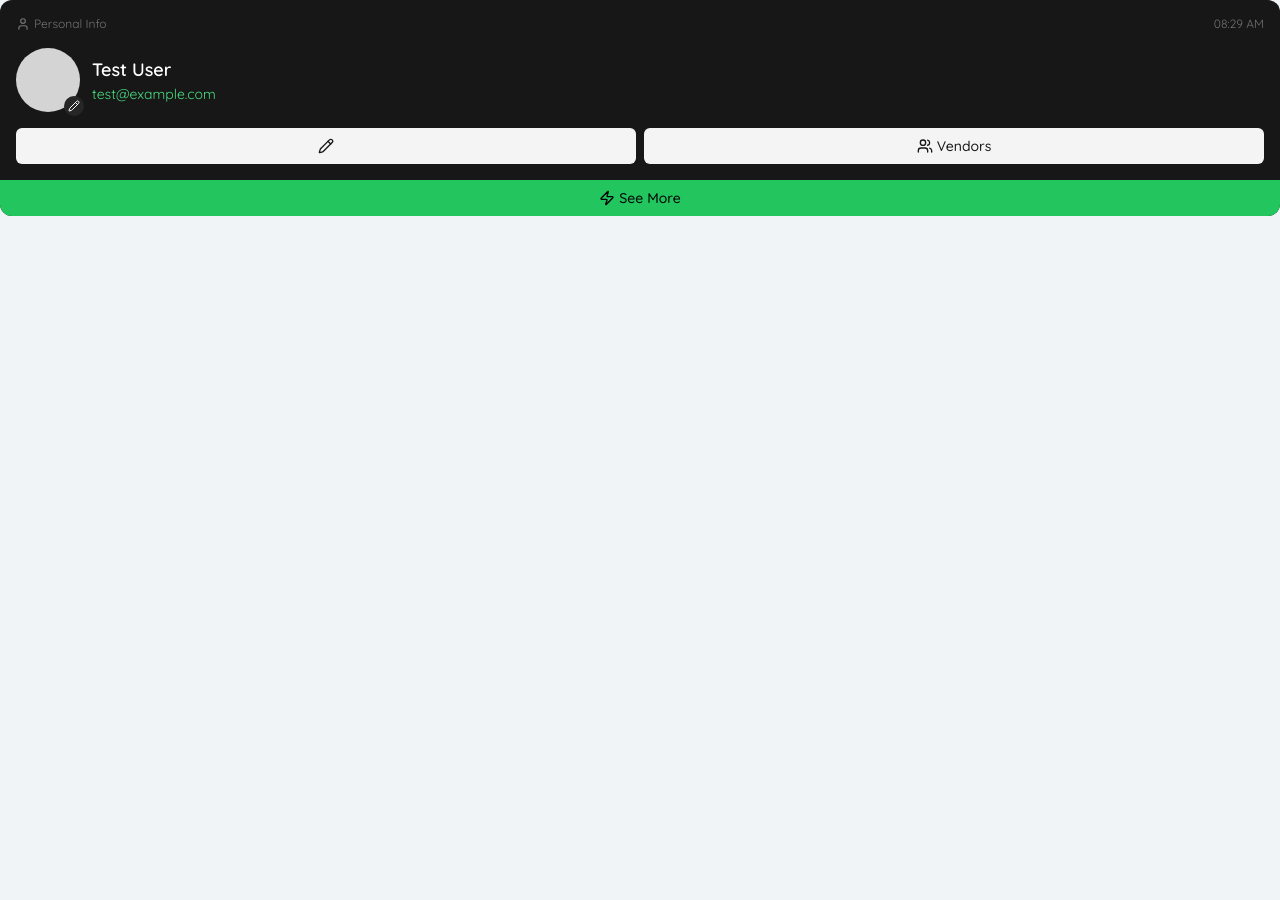
Scenario: PersonalInfoSection › opens vendor manager when Vendors clicked
The width and height of the screenshot is (1280, 900).
Click the button "Vendors".
click(954, 146)  # box [644,128,1264,164]
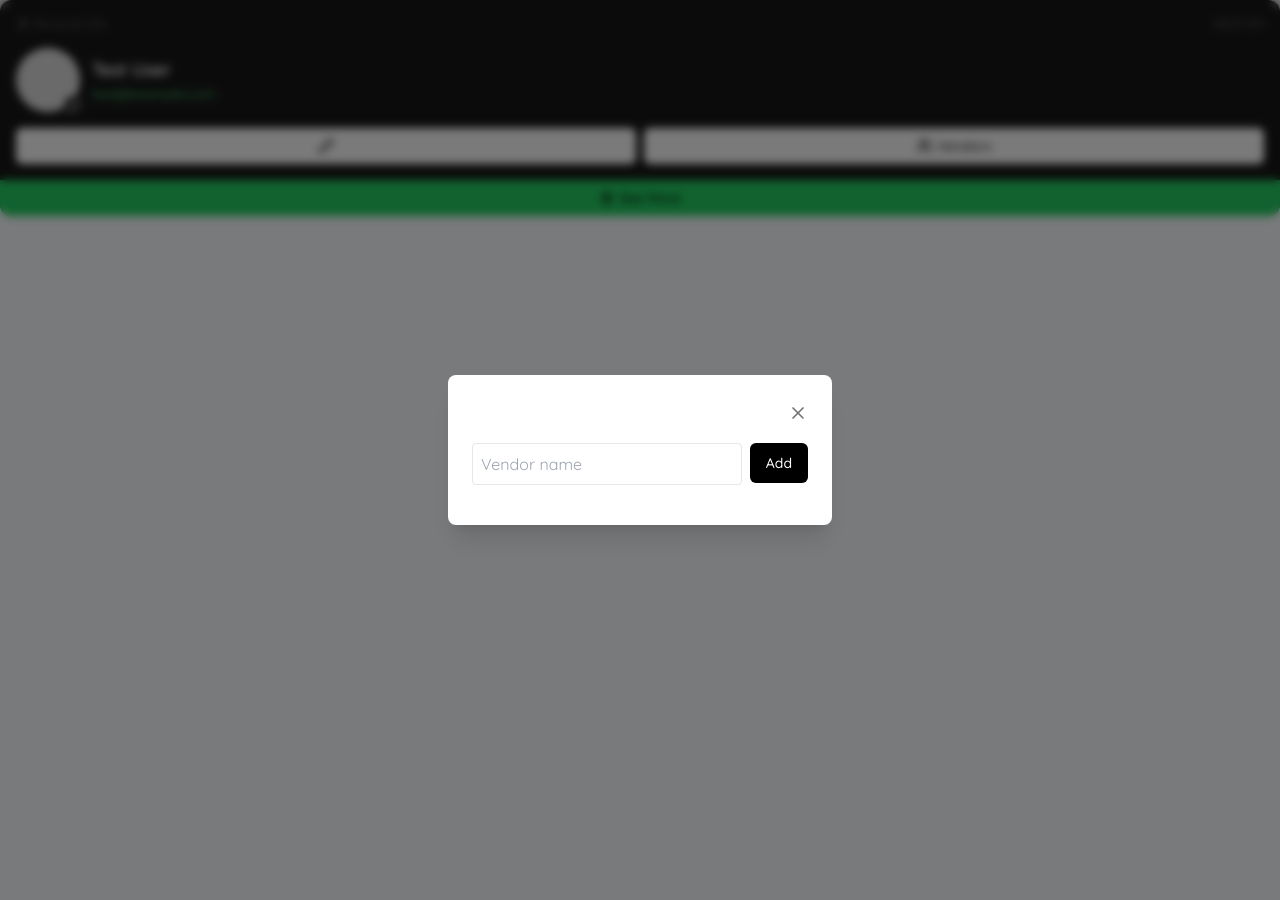
Now the field with placeholder "Vendor name" is shown, box [472,443,742,485]
